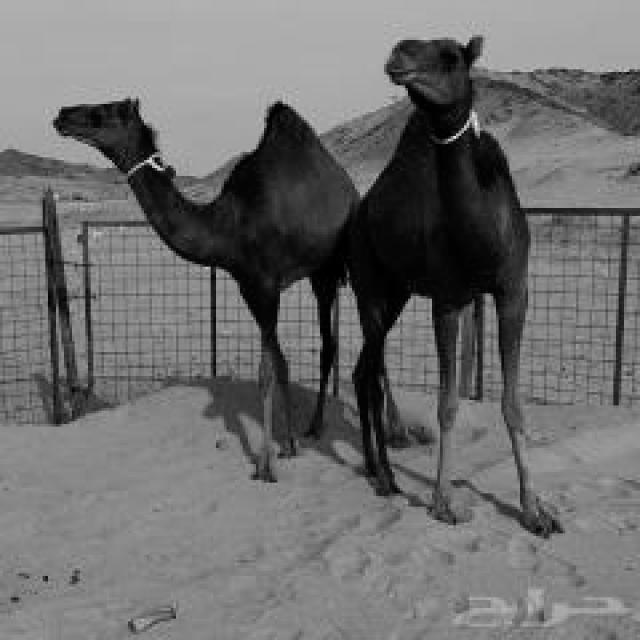Camel: (51, 93, 360, 483), (344, 32, 563, 536)
